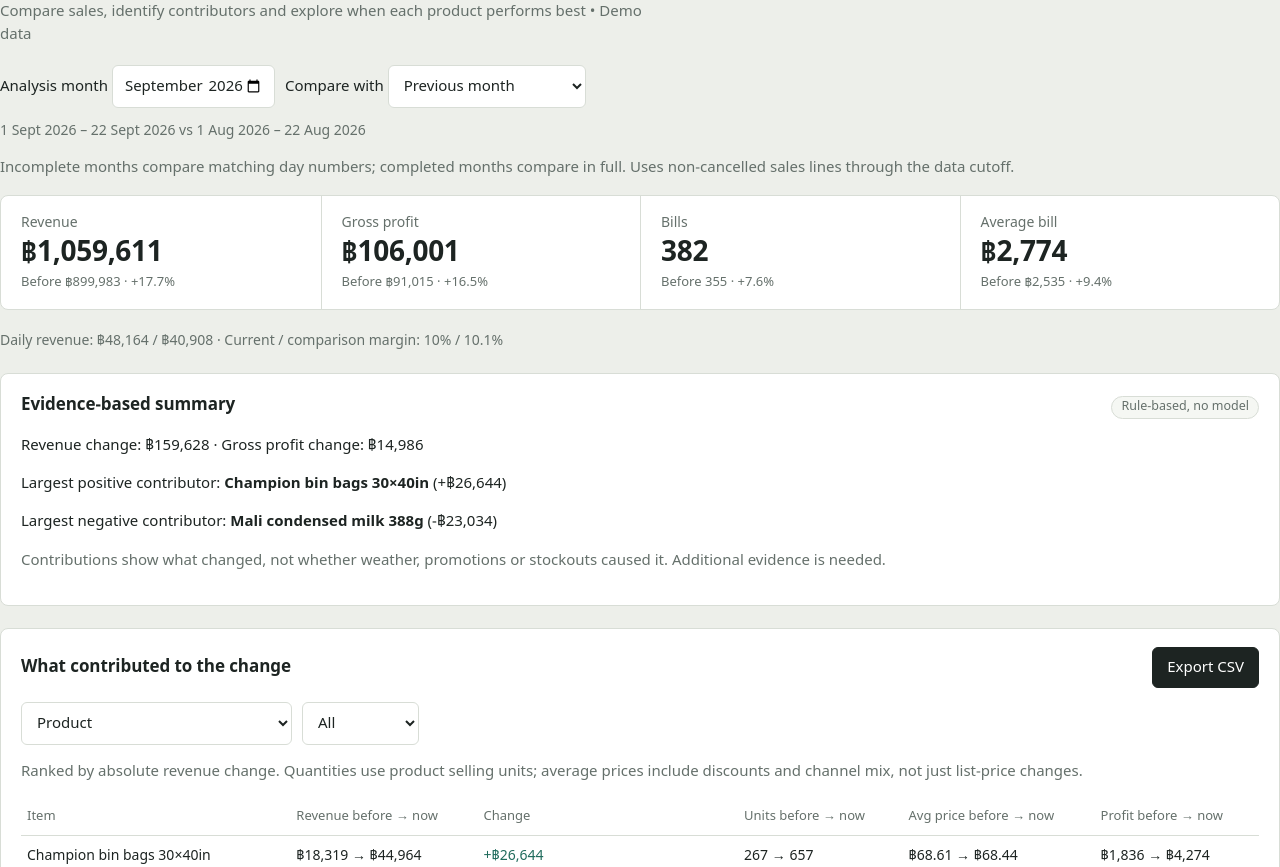
Test: custom dates reject reversed periods and recover when corrected
The image size is (1280, 867).
Select "Two custom periods" in the dropdown labelled "Compare with". click: (487, 86)
box: [388,65,586,108]
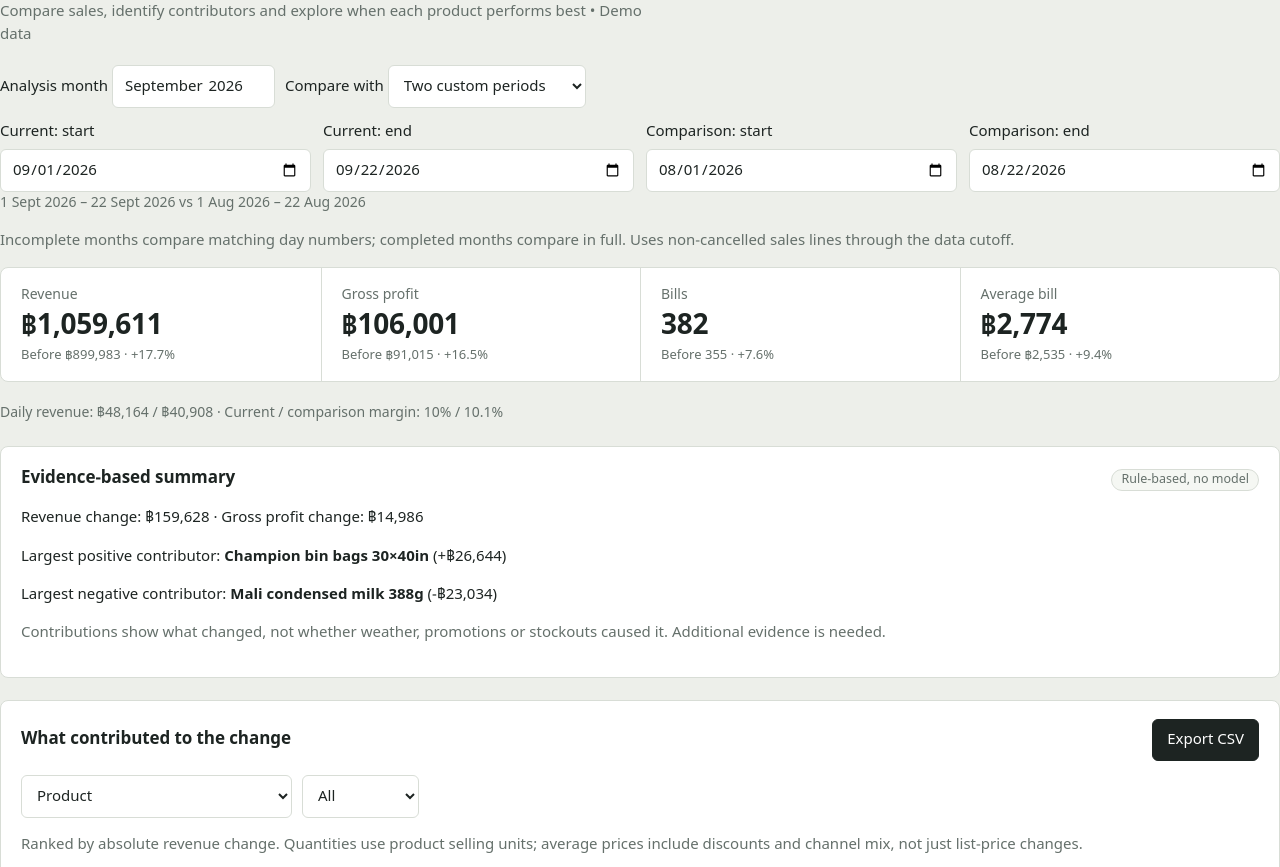
Type "2026-09-23" into the date field labelled "Current: start". click: (156, 171)
box: [0,149,311,192]
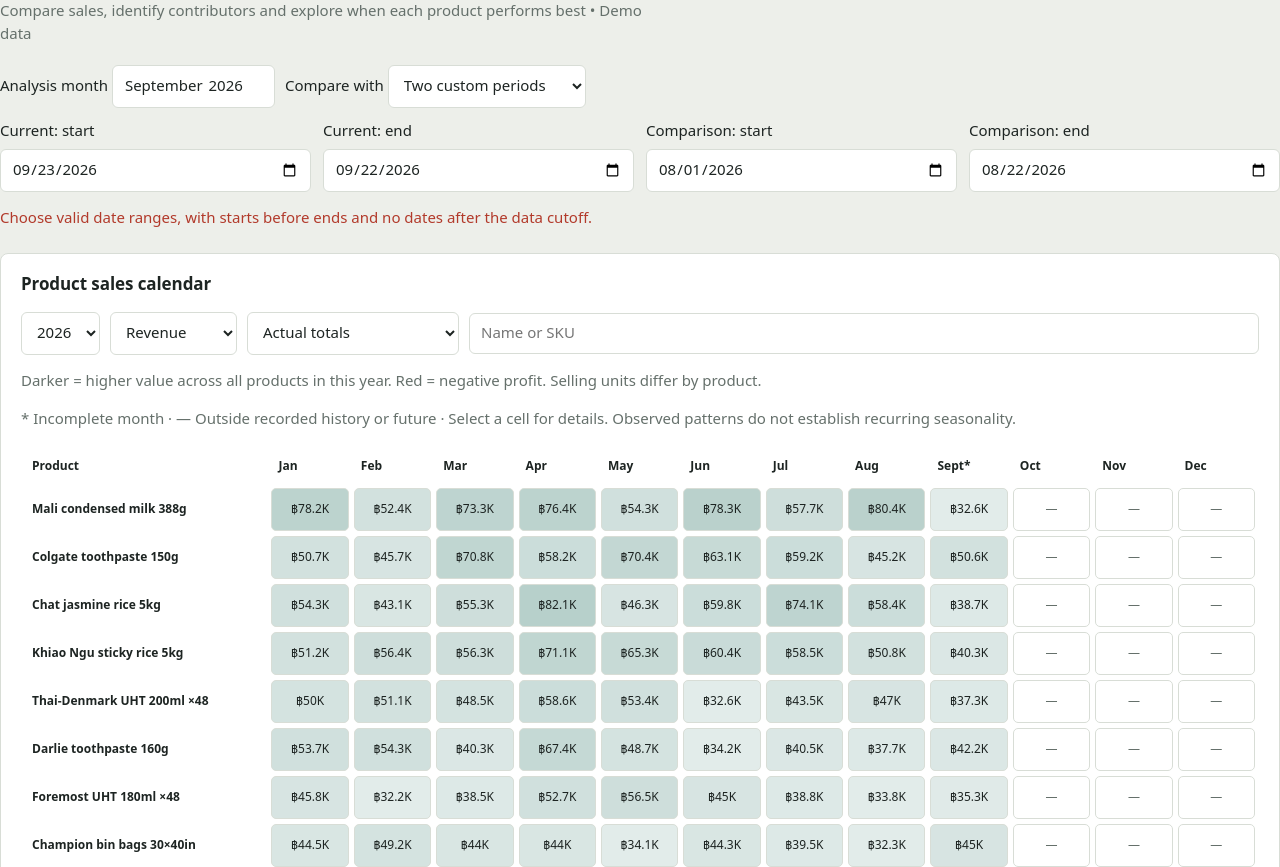
Now the message is shown, box [0,207,592,230]
Now the heading "Evidence-based summary" is gone
Type "2026-09-01" into the date field labelled "Current: start". click: (156, 171)
box: [0,149,311,192]
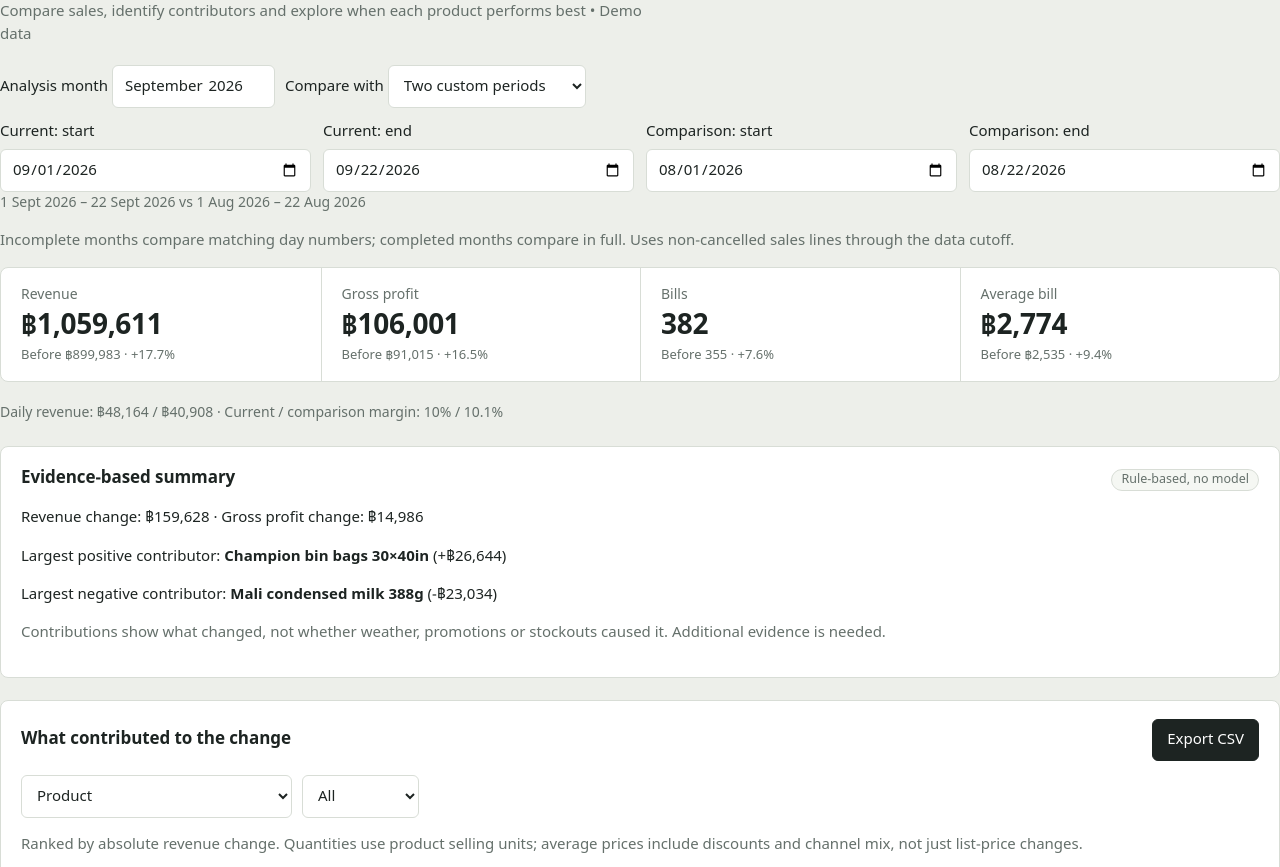
Now the message is gone
Now the heading "Evidence-based summary" is shown, box [21,465,235,491]
